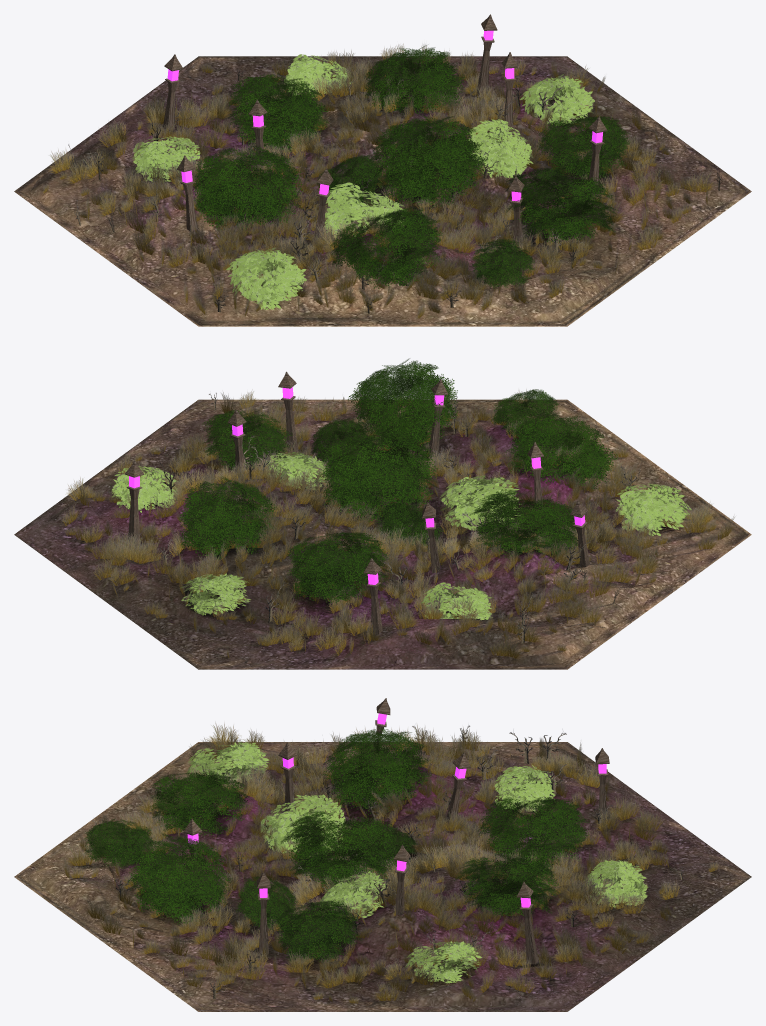
Rendered from shrublands_2_0_baked.glb.
3 views of the same model, one above another, from view 1: azimuth 30°, elevation 25°; view 2: azimuth 150°, elevation 25°; view 3: azimuth 270°, elevation 25° (orthographic).
Visible parts, largest first — view 1: shrublands_2_0; view 2: shrublands_2_0; view 3: shrublands_2_0.
Part boxes in pixels (box(x1,y1,x2,y2)): shrublands_2_0: box(14, 14, 751, 326); shrublands_2_0: box(14, 358, 751, 669); shrublands_2_0: box(14, 698, 751, 1011).
Size of the model in its own units: 1.73 by 0.3641 by 2.
Materials: 6 (5 with a texture image).
